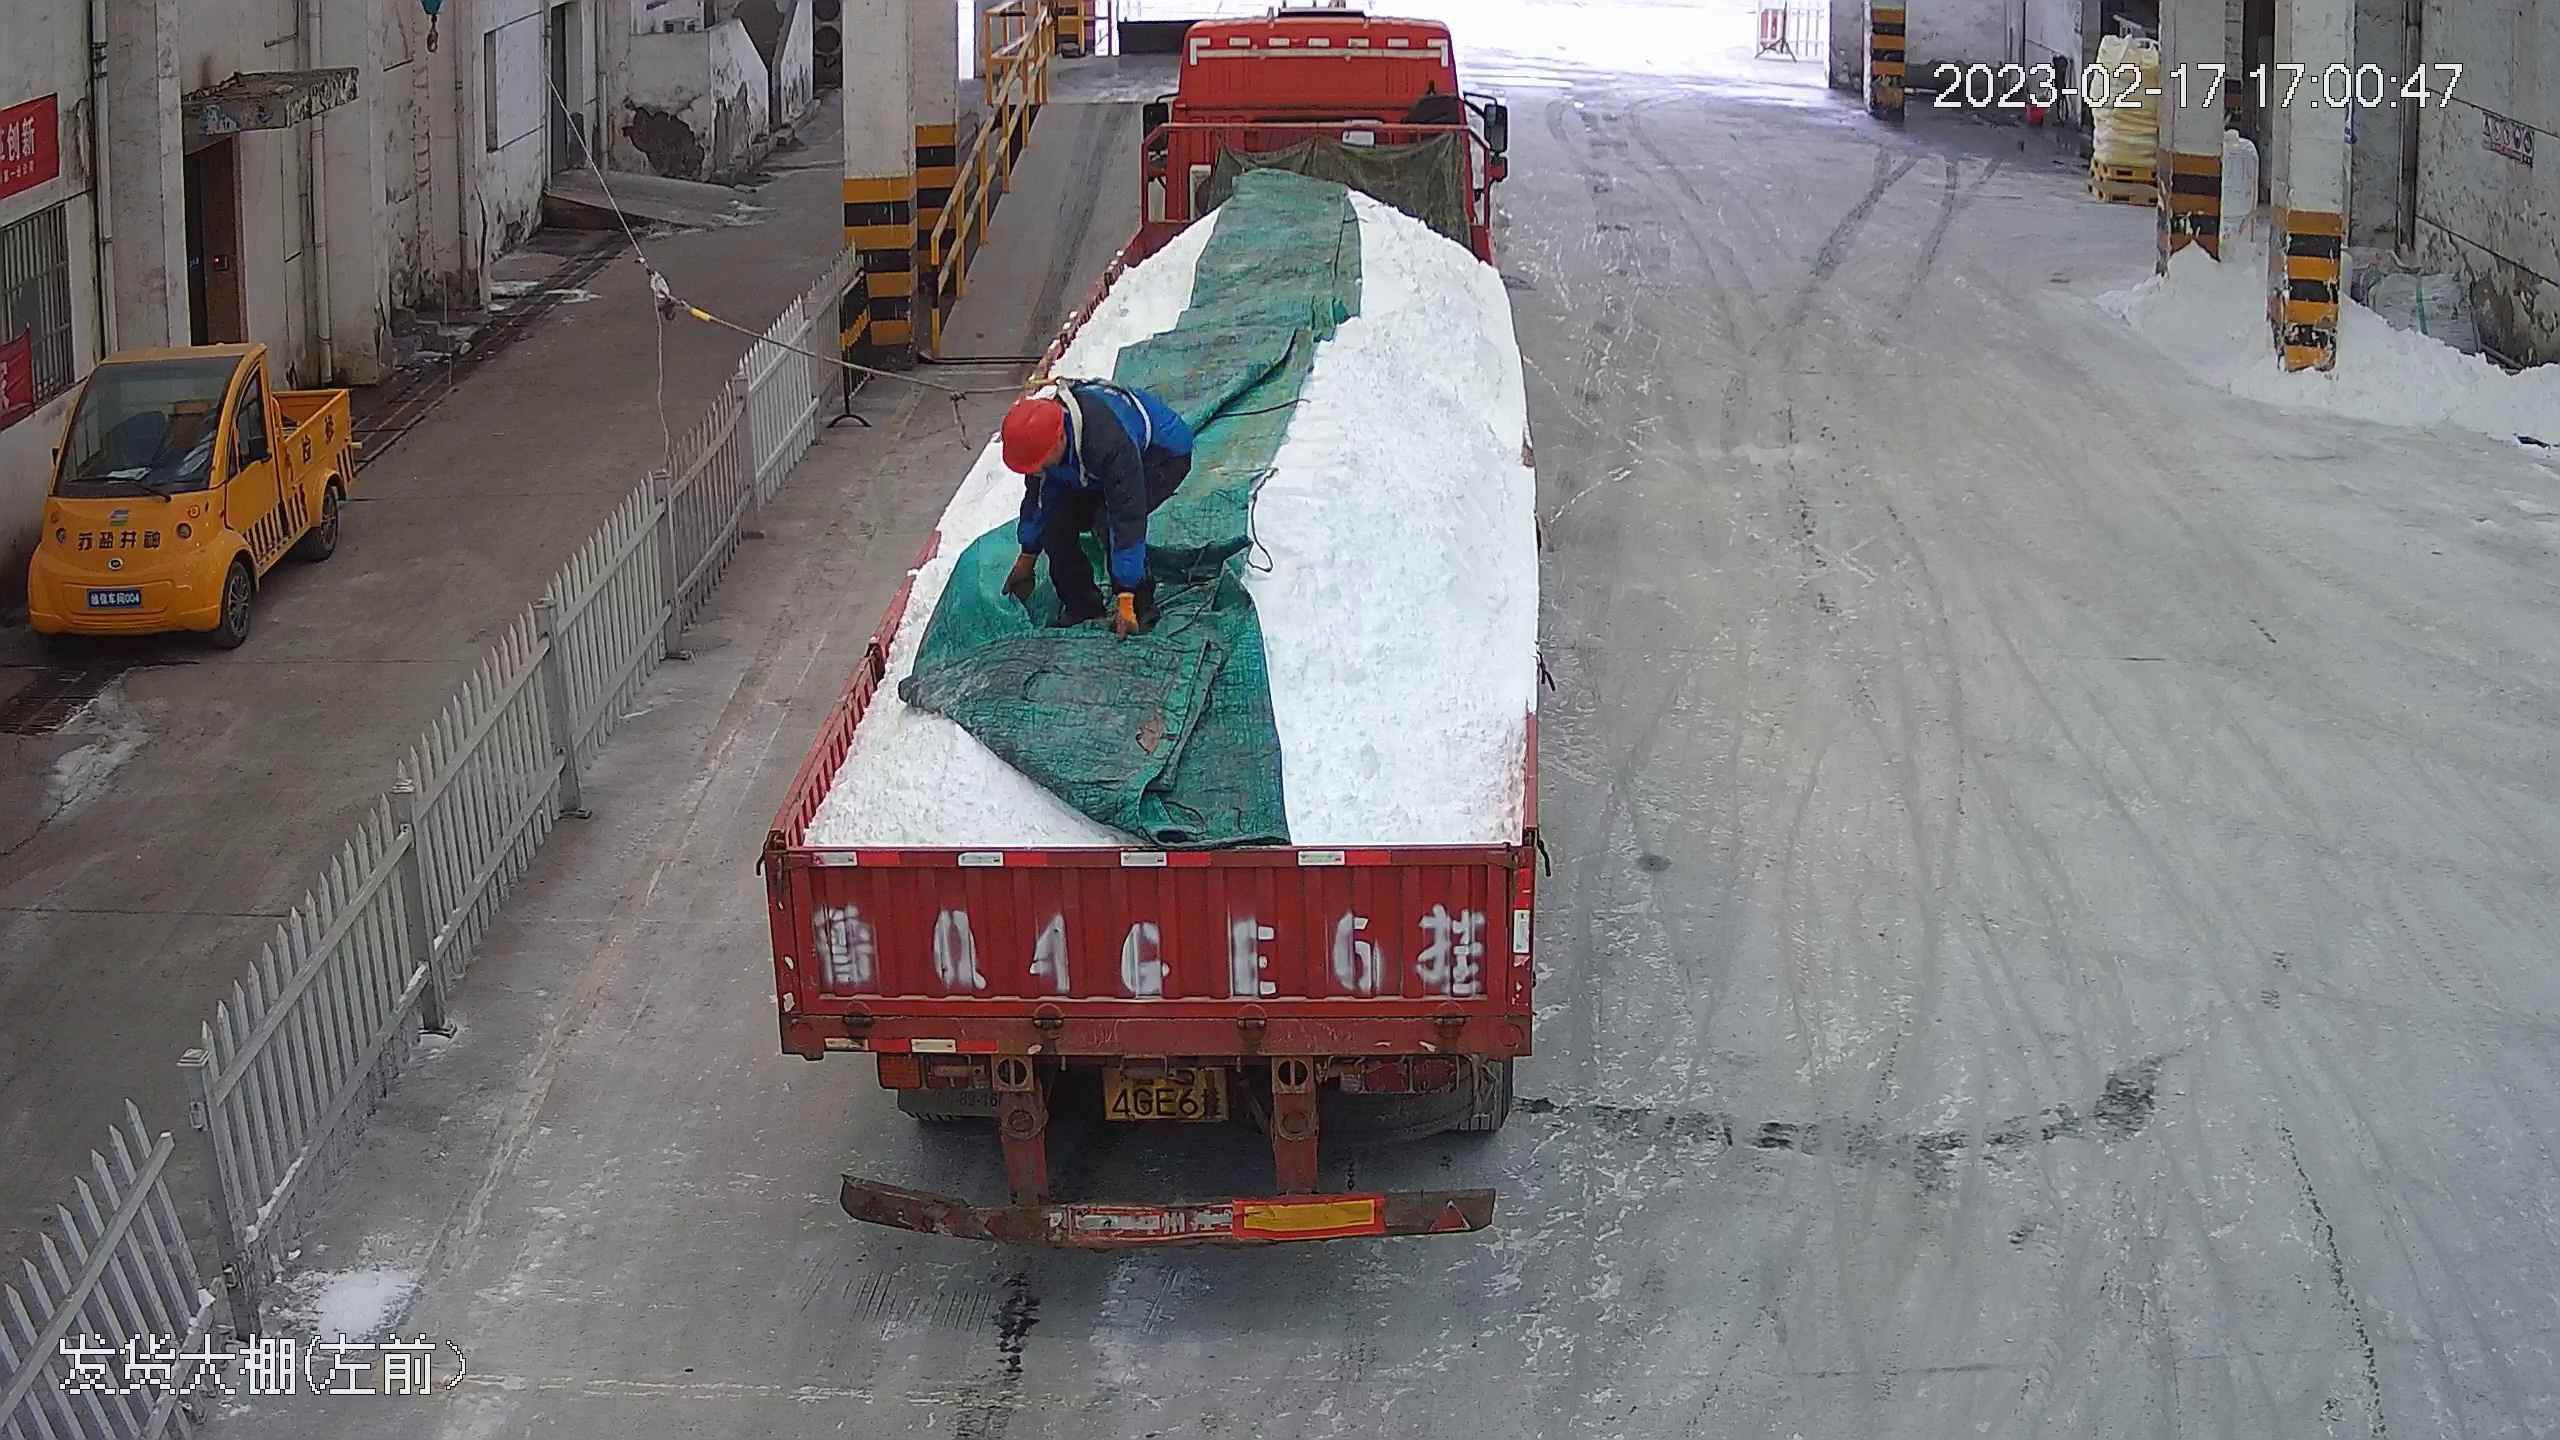belt: (1018, 376, 1152, 486)
head: (1000, 376, 1143, 490)
helmet: (1000, 397, 1066, 475)
people: (1000, 376, 1195, 646)
truck: (756, 5, 1548, 1254)
